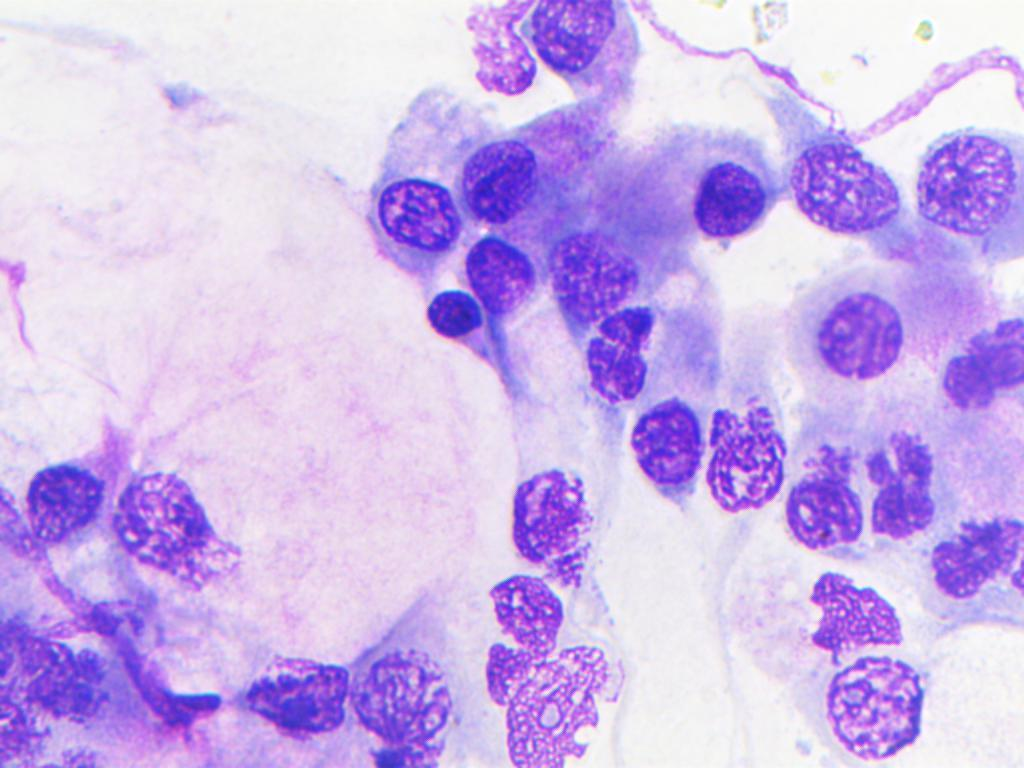artifact: (0, 606, 148, 766), (494, 633, 626, 768), (924, 517, 1024, 637), (474, 576, 567, 703), (928, 309, 1024, 426), (862, 423, 944, 542)
epithelial: (458, 91, 618, 228), (111, 460, 246, 588), (781, 130, 906, 248), (910, 128, 1021, 251), (11, 442, 117, 556), (702, 388, 791, 521), (526, 0, 654, 92), (483, 461, 597, 563), (798, 278, 907, 384), (787, 432, 869, 551), (578, 301, 662, 413), (543, 223, 644, 312), (418, 287, 479, 344)
lymphocyte: (774, 647, 941, 760), (353, 623, 457, 758), (629, 356, 720, 491), (354, 156, 458, 259), (242, 649, 353, 741), (686, 156, 772, 239), (461, 224, 540, 309)
